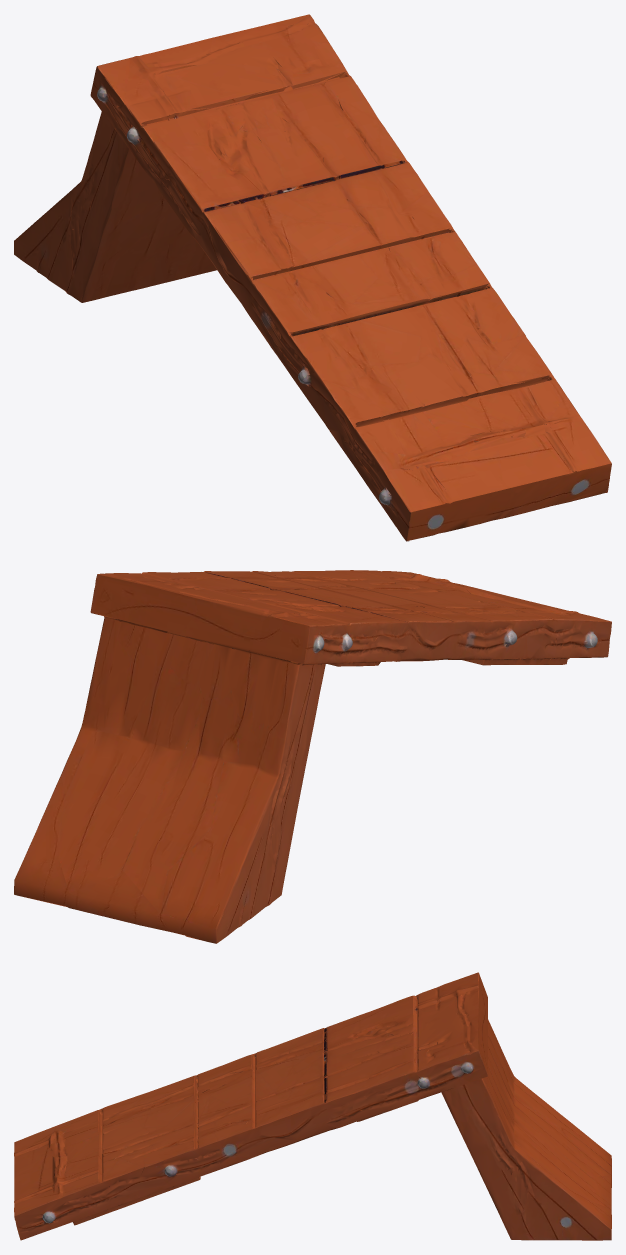
File: ramp.glb
3 renders of one model, top to bottom at view 1: azimuth 30°, elevation 25°; view 2: azimuth 150°, elevation 25°; view 3: azimuth 270°, elevation 25°, orthographic. The views are drawn at different scales.
Bounding box in the file's own units: 0.6219 × 0.6762 × 1.9.
1 material, 1 textured.
